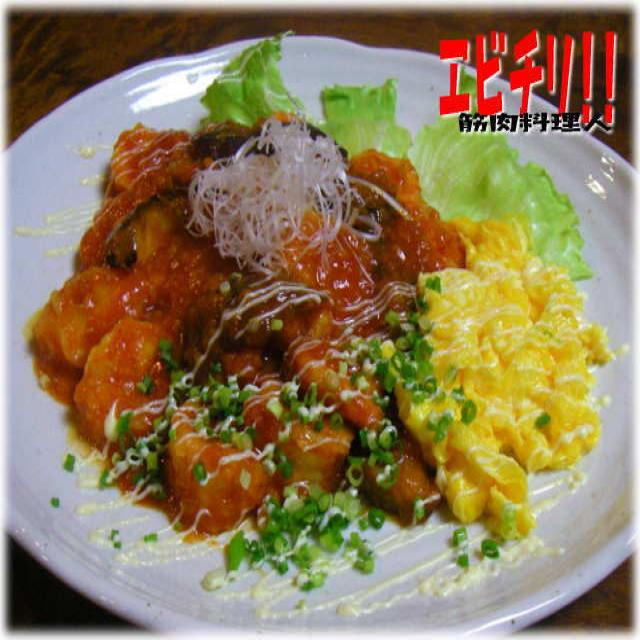熟制海鲜: (14, 113, 400, 616)
